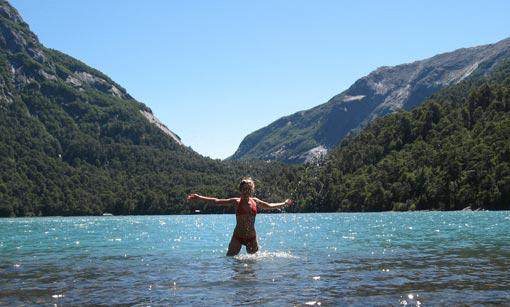human: (186, 178, 291, 258)
